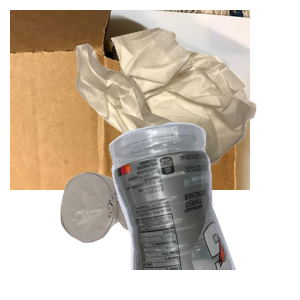cardboard: (10, 10, 250, 190)
glass: (58, 170, 202, 300)
plastic: (106, 120, 300, 300)
trash: (73, 25, 300, 183)
